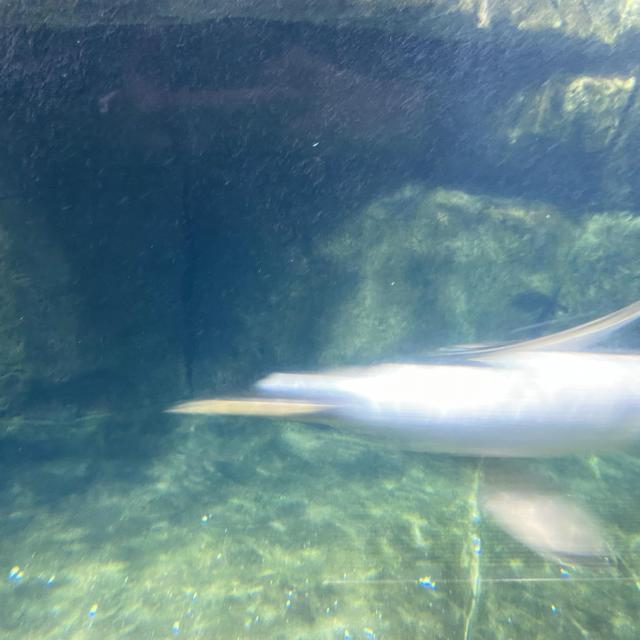penguin: (161, 300, 640, 569)
